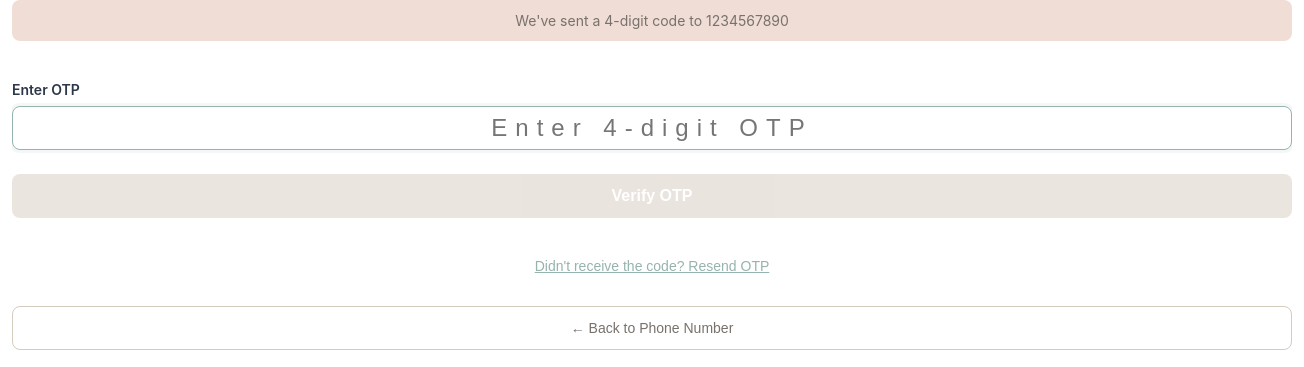
OTPForm Component › should enable verify button when OTP is 4 digits
Step 1. Type "2213" into the field labelled "Enter OTP" → (652, 128), box [12,106,1292,150]
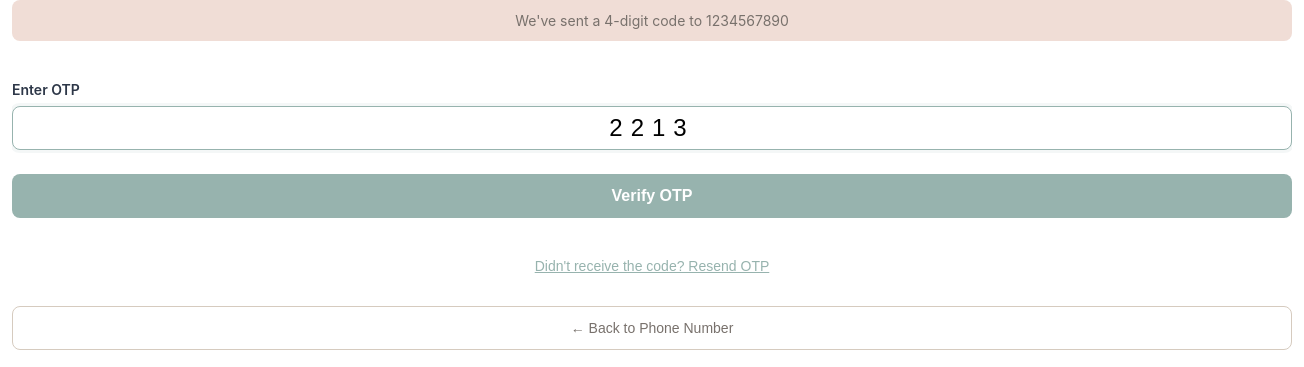
Result: the button "Verify OTP" is enabled at [12,174,1292,218]
